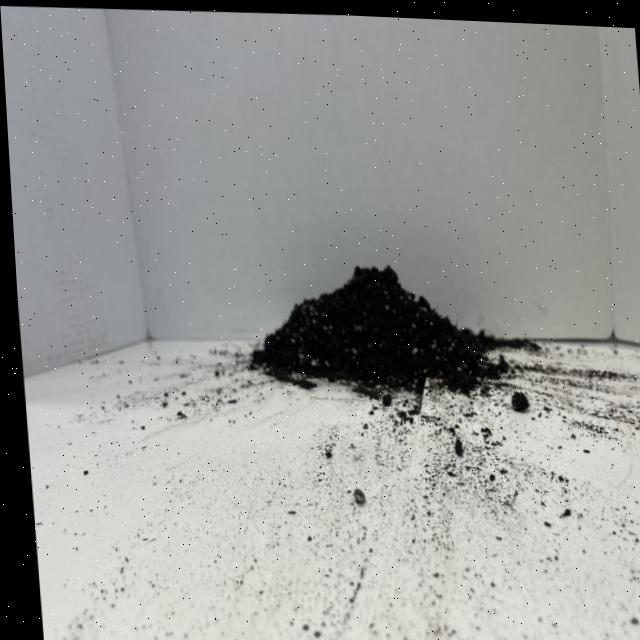soil: (240, 252, 507, 405)
